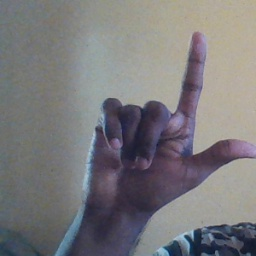L: (86, 29, 256, 208)
